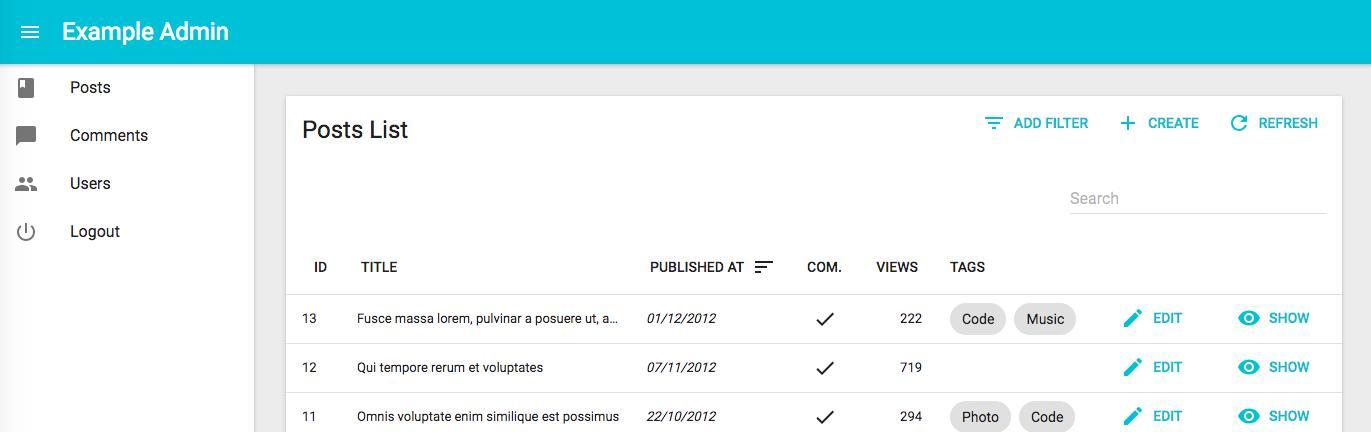icon: (13, 74, 41, 105), (980, 111, 1010, 137), (813, 406, 842, 432), (14, 122, 39, 150), (12, 172, 40, 197), (14, 222, 40, 248), (813, 357, 839, 383), (809, 306, 838, 329), (1237, 404, 1262, 429), (1124, 356, 1145, 385), (1237, 306, 1261, 331), (1122, 304, 1142, 333), (1122, 404, 1144, 428), (1237, 358, 1263, 378), (1119, 113, 1138, 139), (1231, 113, 1252, 134)
label: (1014, 116, 1092, 137), (70, 128, 153, 147), (1258, 115, 1323, 134), (66, 172, 114, 197), (1144, 111, 1201, 132), (66, 78, 116, 101), (66, 224, 123, 243), (1267, 407, 1310, 427), (1272, 309, 1315, 327), (1267, 361, 1311, 378), (1151, 357, 1182, 378), (1152, 309, 1186, 328), (1150, 409, 1187, 426)
table: (288, 249, 1343, 432)
